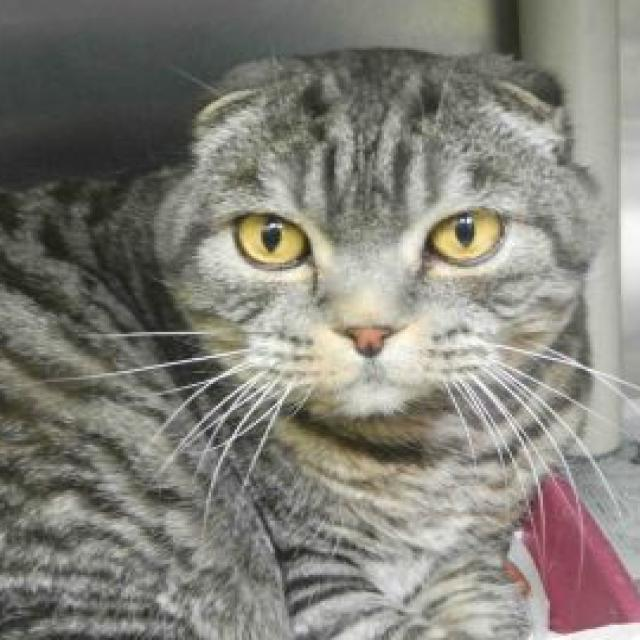Scottish Fold: (0, 37, 619, 640)
